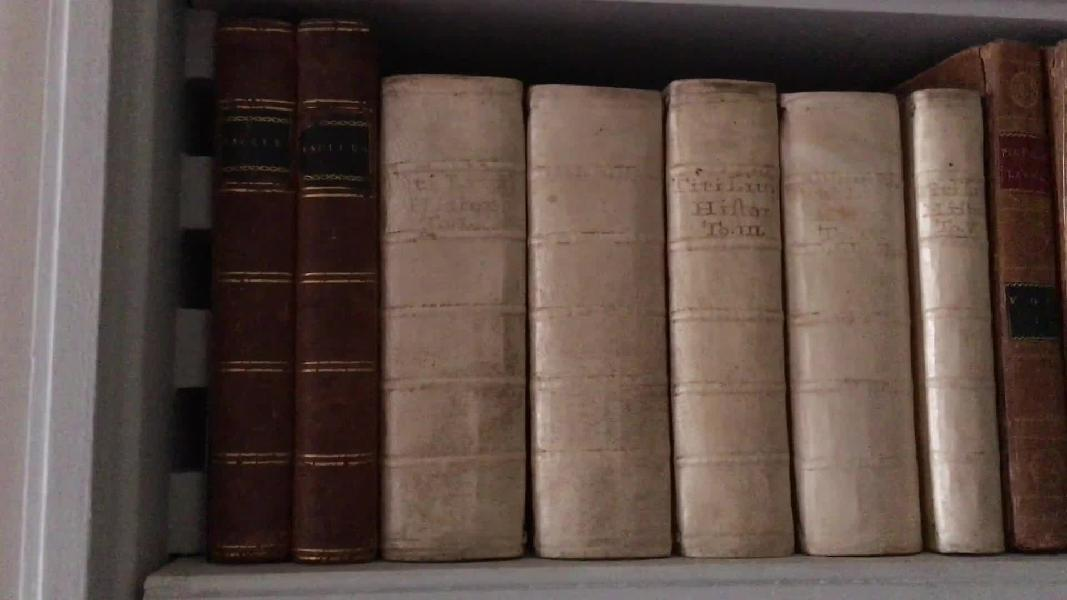Kk4-1_2: (210, 1, 379, 575)
Kk4-3_7: (376, 63, 1007, 559)
